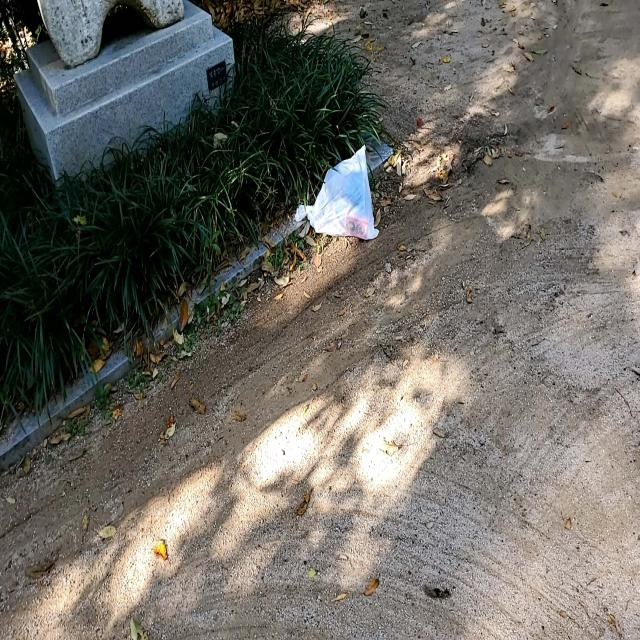garbage bag: (300, 142, 380, 243)
